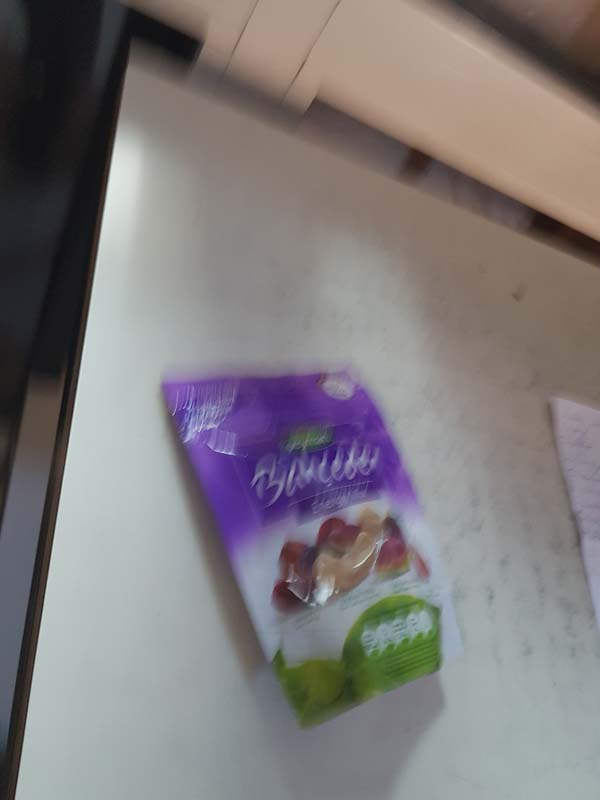bahcedenenergymix: (152, 362, 464, 733)
